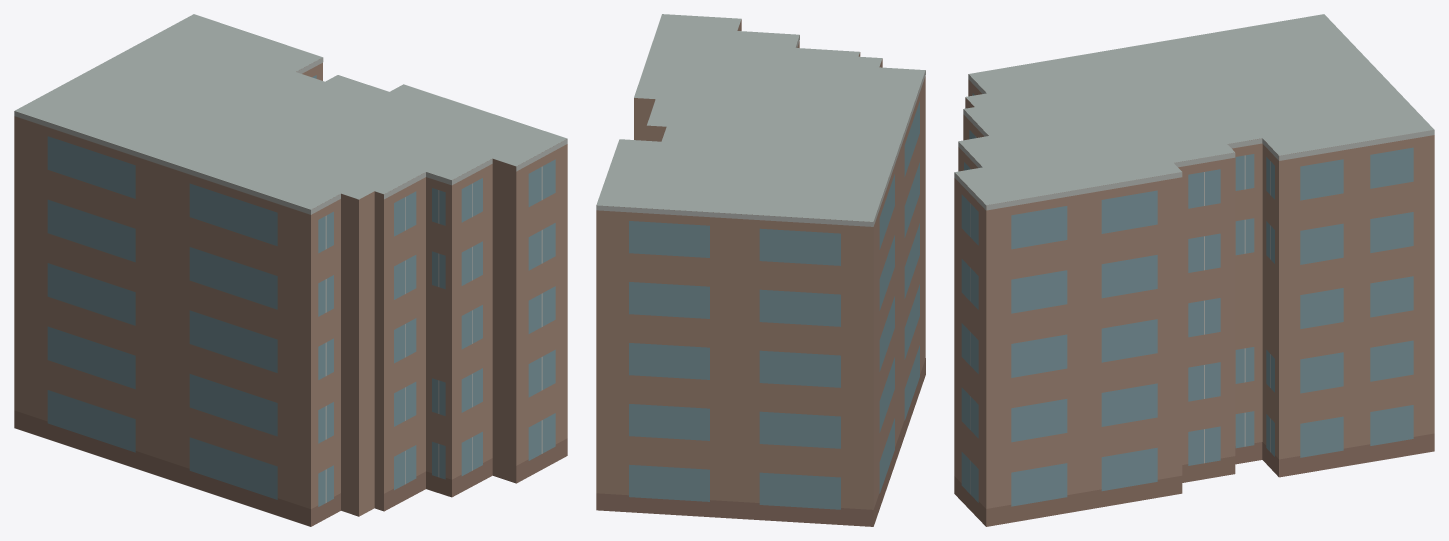
The model's file is survey-upis-32973050.glb.
3 renders of one model, left to right at view 1: azimuth 30°, elevation 25°; view 2: azimuth 150°, elevation 25°; view 3: azimuth 270°, elevation 25°, orthographic. The views are drawn at different scales.
Visible parts, largest first — view 1: survey-upis-32973050.tmp; view 2: survey-upis-32973050.tmp; view 3: survey-upis-32973050.tmp.
Boxes of the visible parts, left/top/right/bottom form: survey-upis-32973050.tmp: left=14, top=14, right=567, bottom=526; survey-upis-32973050.tmp: left=596, top=14, right=925, bottom=526; survey-upis-32973050.tmp: left=954, top=14, right=1434, bottom=526.
Bounding box in the file's own units: 19.19 × 15.03 × 20.35.
